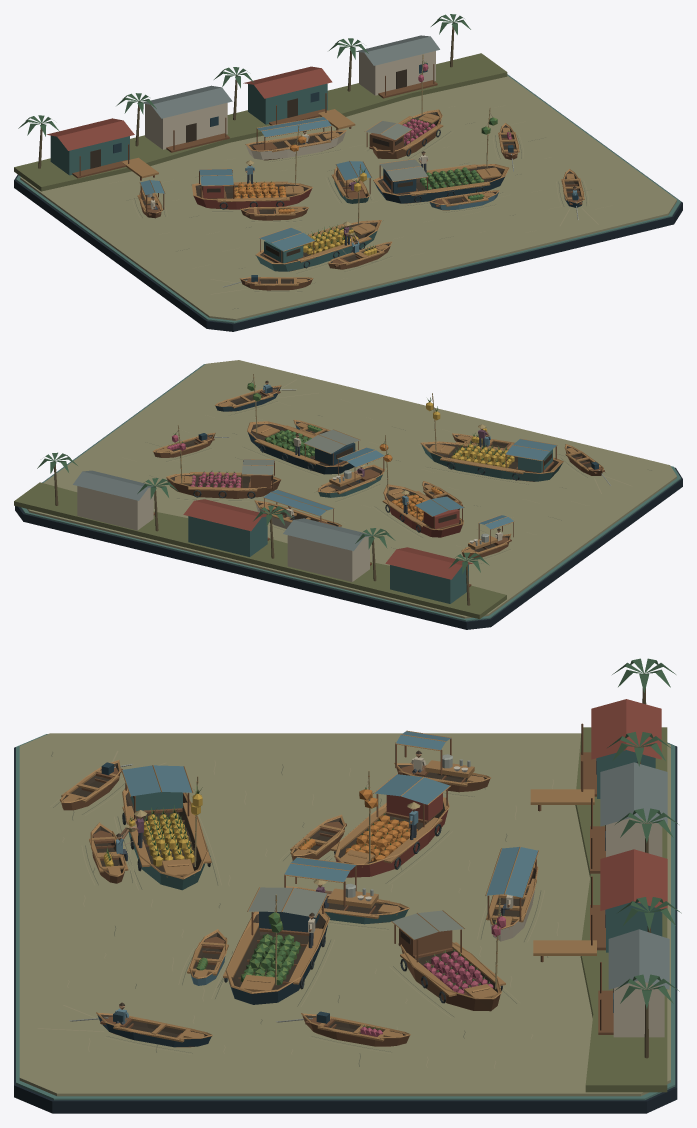
File: mysterios12.glb
3 renders of one model, top to bottom at view 1: azimuth 30°, elevation 25°; view 2: azimuth 150°, elevation 25°; view 3: azimuth 270°, elevation 25°, orthographic. The views are drawn at different scales.
Visible parts, largest first — view 1: RIVER_WATER_Mesh, BANK_Mesh, BASE_Mesh, MerchantBoat_Watermelon_Mesh, MerchantBoat_Pineapple_Mesh, MerchantBoat_Produce_Mesh, TouristBoat_Mesh, MerchantBoat_Dragonfruit_Mesh, WAKES_Mesh, BreakfastBoat_Mesh, PassingSkiff_West_Mesh, SmallTradingSkiff_B_Mesh (+5 smaller); view 2: RIVER_WATER_Mesh, BANK_Mesh, BASE_Mesh, MerchantBoat_Pineapple_Mesh, MerchantBoat_Watermelon_Mesh, MerchantBoat_Dragonfruit_Mesh, MerchantBoat_Produce_Mesh, BreakfastBoat_Mesh, TouristBoat_Mesh, CoffeeBoat_Mesh, WAKES_Mesh, PassingSkiff_East_Mesh (+3 smaller); view 3: RIVER_WATER_Mesh, BANK_Mesh, BASE_Mesh, MerchantBoat_Watermelon_Mesh, MerchantBoat_Pineapple_Mesh, MerchantBoat_Produce_Mesh, MerchantBoat_Dragonfruit_Mesh, BreakfastBoat_Mesh, TouristBoat_Mesh, WAKES_Mesh, CoffeeBoat_Mesh, PassingSkiff_East_Mesh (+5 smaller).
Boxes of the visible parts, x1,y1,x2,y2 form: RIVER_WATER_Mesh: (20, 75, 676, 320); BANK_Mesh: (14, 14, 507, 191); BASE_Mesh: (14, 74, 682, 331); MerchantBoat_Watermelon_Mesh: (373, 159, 509, 203); MerchantBoat_Pineapple_Mesh: (255, 220, 381, 271); MerchantBoat_Produce_Mesh: (192, 168, 312, 209); TouristBoat_Mesh: (245, 116, 346, 160); MerchantBoat_Dragonfruit_Mesh: (365, 109, 443, 158); WAKES_Mesh: (109, 105, 612, 309); BreakfastBoat_Mesh: (331, 161, 371, 203); PassingSkiff_West_Mesh: (223, 275, 313, 290); SmallTradingSkiff_B_Mesh: (429, 190, 499, 210); RIVER_WATER_Mesh: (27, 360, 676, 618); BANK_Mesh: (14, 452, 506, 619); BASE_Mesh: (15, 364, 682, 629); MerchantBoat_Pineapple_Mesh: (420, 438, 563, 481); MerchantBoat_Watermelon_Mesh: (247, 421, 360, 474); MerchantBoat_Dragonfruit_Mesh: (166, 459, 281, 498); MerchantBoat_Produce_Mesh: (382, 484, 464, 537); BreakfastBoat_Mesh: (317, 447, 385, 497); TouristBoat_Mesh: (254, 489, 341, 528); CoffeeBoat_Mesh: (461, 515, 514, 558); WAKES_Mesh: (122, 379, 651, 563); PassingSkiff_East_Mesh: (215, 385, 296, 411); RIVER_WATER_Mesh: (19, 733, 670, 1096); BANK_Mesh: (530, 658, 681, 1092); BASE_Mesh: (14, 734, 677, 1113); MerchantBoat_Watermelon_Mesh: (223, 887, 330, 1004); MerchantBoat_Pineapple_Mesh: (121, 765, 211, 890); MerchantBoat_Produce_Mesh: (330, 774, 450, 877); MerchantBoat_Dragonfruit_Mesh: (391, 910, 505, 1011); BreakfastBoat_Mesh: (284, 857, 409, 924); TouristBoat_Mesh: (485, 846, 538, 941); WAKES_Mesh: (37, 751, 558, 1068); CoffeeBoat_Mesh: (394, 730, 490, 792); PassingSkiff_East_Mesh: (69, 1012, 212, 1047).
Size of the model in its own units: 34 by 5.43 by 26.22.
